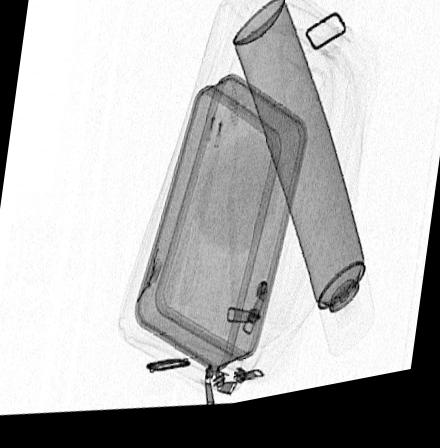Sprayer: (231, 5, 378, 374)
